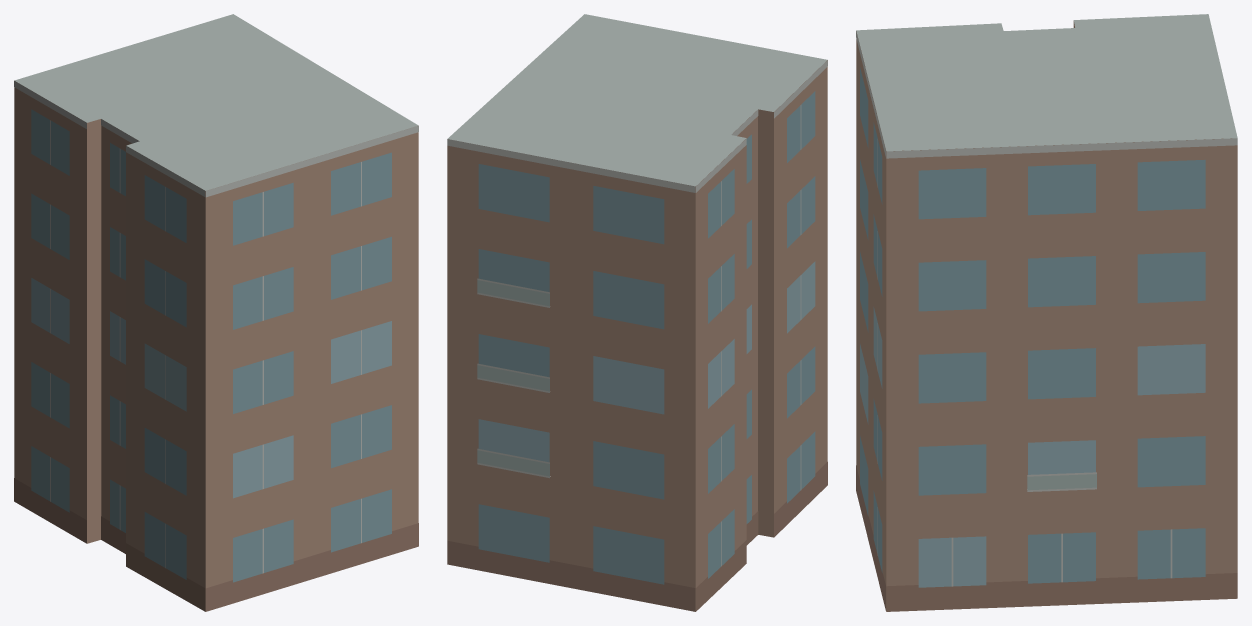
Rendered from survey-upis-32976507.glb.
3 renders of one model, left to right at view 1: azimuth 30°, elevation 25°; view 2: azimuth 150°, elevation 25°; view 3: azimuth 270°, elevation 25°, orthographic. The views are drawn at different scales.
Visible parts, largest first — view 1: survey-upis-32976507.tmp; view 2: survey-upis-32976507.tmp; view 3: survey-upis-32976507.tmp.
Boxes of the visible parts, left/top/right/bottom form: survey-upis-32976507.tmp: left=14, top=14, right=418, bottom=611; survey-upis-32976507.tmp: left=447, top=14, right=827, bottom=611; survey-upis-32976507.tmp: left=856, top=14, right=1237, bottom=611.
Size of the model in its own units: 9.99 by 15.6 by 11.72.
